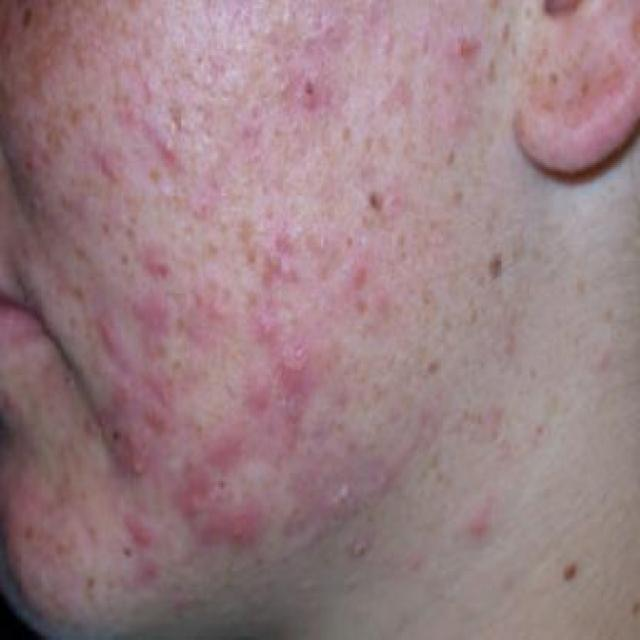blackheads: (351, 167, 395, 224), (289, 59, 334, 110), (97, 404, 134, 461), (109, 530, 146, 575)
papules: (223, 487, 279, 565), (274, 341, 329, 394), (243, 365, 280, 424), (100, 304, 129, 367), (137, 296, 175, 332)
pustules: (149, 126, 186, 172)
whiteheads: (312, 222, 345, 267), (274, 212, 301, 251), (264, 255, 298, 285)
